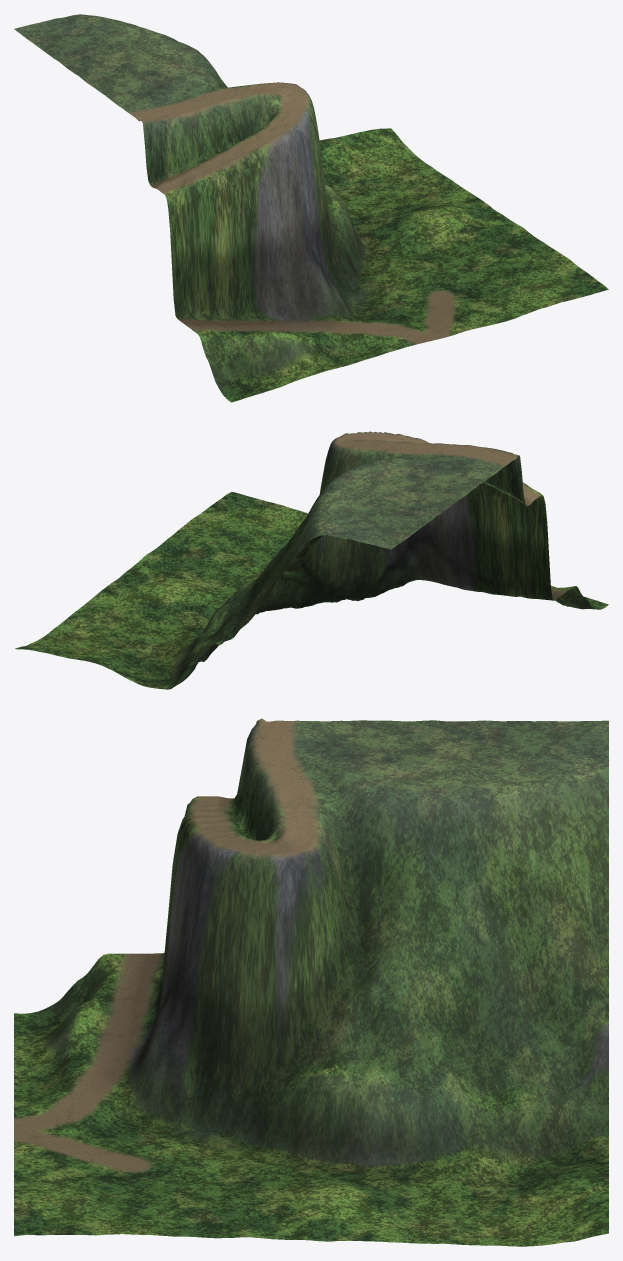
3 renders of one model, top to bottom at view 1: azimuth 30°, elevation 25°; view 2: azimuth 150°, elevation 25°; view 3: azimuth 270°, elevation 25°, orthographic. The views are drawn at different scales.
Visible parts, largest first — view 1: t128_128; view 2: t128_128; view 3: t128_128.
Boxes of the visible parts, bbox=[...] form: t128_128: bbox=[14, 14, 608, 402]; t128_128: bbox=[15, 431, 608, 689]; t128_128: bbox=[14, 718, 608, 1246].
Size of the model in its own units: 64 by 35.05 by 64.
Materials: 1 (1 with a texture image).
